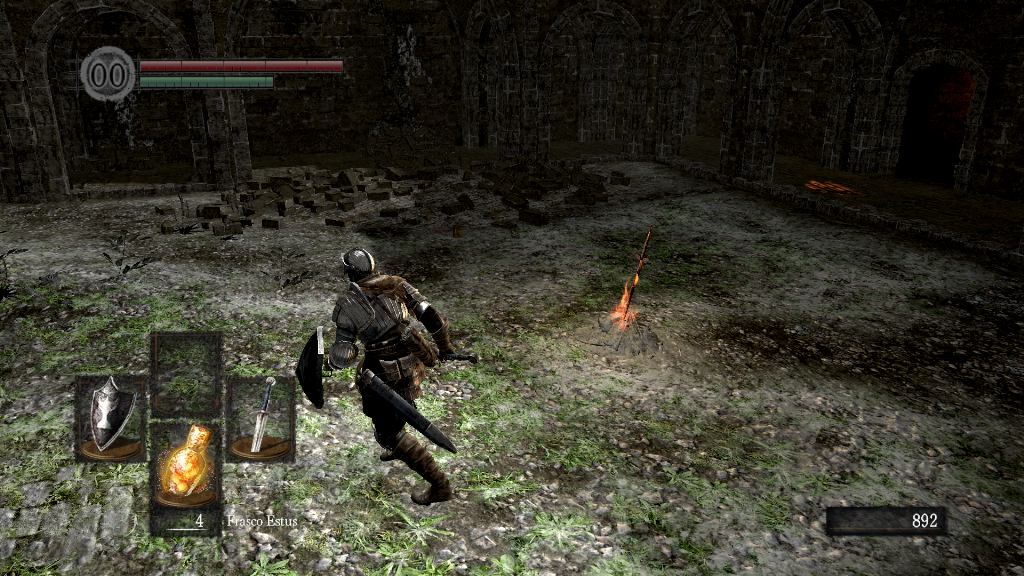bonfire: (574, 229, 671, 350)
health: (138, 58, 343, 71)
humanity: (80, 45, 136, 102)
player: (296, 249, 478, 512)
souls: (825, 506, 945, 536)
stamina: (138, 74, 274, 88)
